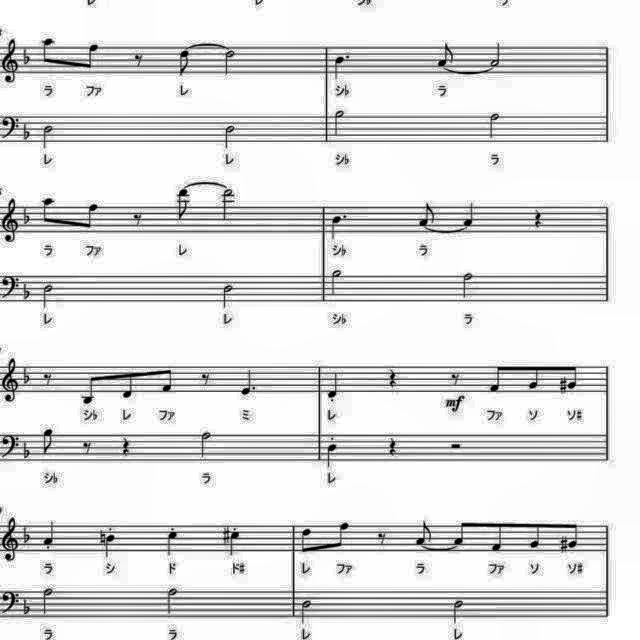Bass-clef: (0, 112, 22, 144), (0, 586, 22, 618), (0, 431, 22, 462), (0, 271, 22, 301)
Bemol: (21, 364, 34, 391), (21, 438, 33, 466), (21, 522, 33, 548), (22, 42, 34, 66), (22, 204, 34, 228), (22, 278, 34, 302), (22, 120, 34, 144), (22, 592, 34, 616)
Diez: (218, 524, 234, 554), (556, 534, 568, 554), (98, 526, 110, 546)
Eighth-note: (78, 367, 102, 405), (330, 516, 354, 552), (80, 40, 104, 74), (80, 197, 104, 231), (37, 192, 59, 228), (487, 520, 507, 558), (412, 517, 436, 547), (38, 34, 58, 70), (487, 360, 507, 396), (118, 368, 138, 404), (173, 188, 193, 224), (174, 46, 196, 78), (526, 518, 546, 552), (414, 200, 438, 228), (434, 40, 458, 68), (156, 362, 177, 394), (298, 523, 318, 555), (524, 362, 544, 394), (38, 426, 58, 458), (449, 520, 469, 550), (564, 520, 582, 552), (564, 362, 582, 394)
Eighth-rest: (130, 51, 148, 73), (372, 531, 390, 551), (129, 210, 147, 230), (198, 370, 215, 390), (40, 370, 56, 390), (78, 440, 94, 460), (448, 369, 464, 387)
Half-note: (484, 109, 506, 143), (217, 187, 235, 225), (38, 583, 58, 617), (460, 268, 480, 302), (448, 596, 469, 628), (328, 105, 348, 138), (326, 266, 346, 298), (220, 46, 238, 80), (164, 585, 182, 619), (486, 41, 506, 71), (219, 122, 239, 152), (294, 599, 314, 629), (39, 280, 57, 312), (197, 430, 215, 462), (39, 123, 57, 153), (218, 280, 236, 310)
Half-rest: (446, 439, 466, 453)
Quarter-dot: (328, 210, 352, 242), (332, 52, 356, 84), (237, 367, 259, 397)
Quarter-note: (38, 517, 58, 551), (163, 525, 183, 557), (323, 370, 343, 402), (226, 527, 246, 559), (460, 200, 478, 228), (323, 442, 341, 470), (101, 532, 119, 560)
Quarter-rest: (384, 364, 401, 392), (384, 433, 401, 459), (530, 204, 546, 230), (118, 436, 134, 458)
Treble-clef: (0, 194, 20, 245), (0, 513, 20, 563), (0, 37, 20, 87), (0, 355, 20, 405)
